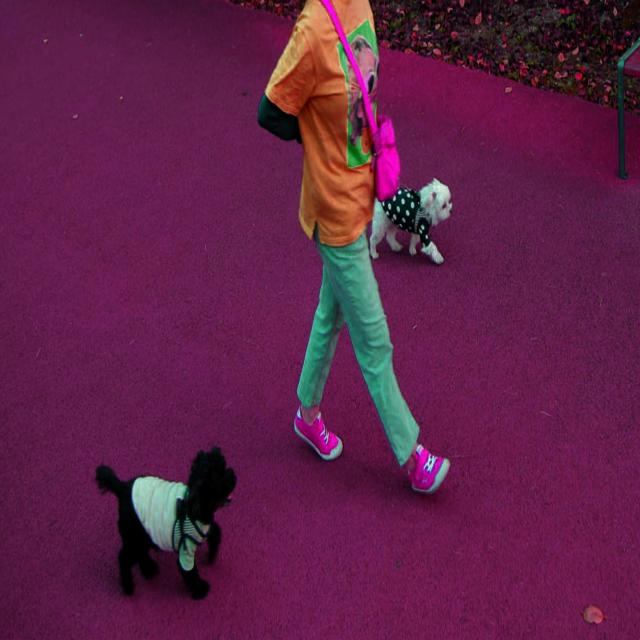Leashed_Dog: (357, 161, 453, 263)
Unleashed_Dog: (95, 309, 328, 603)
